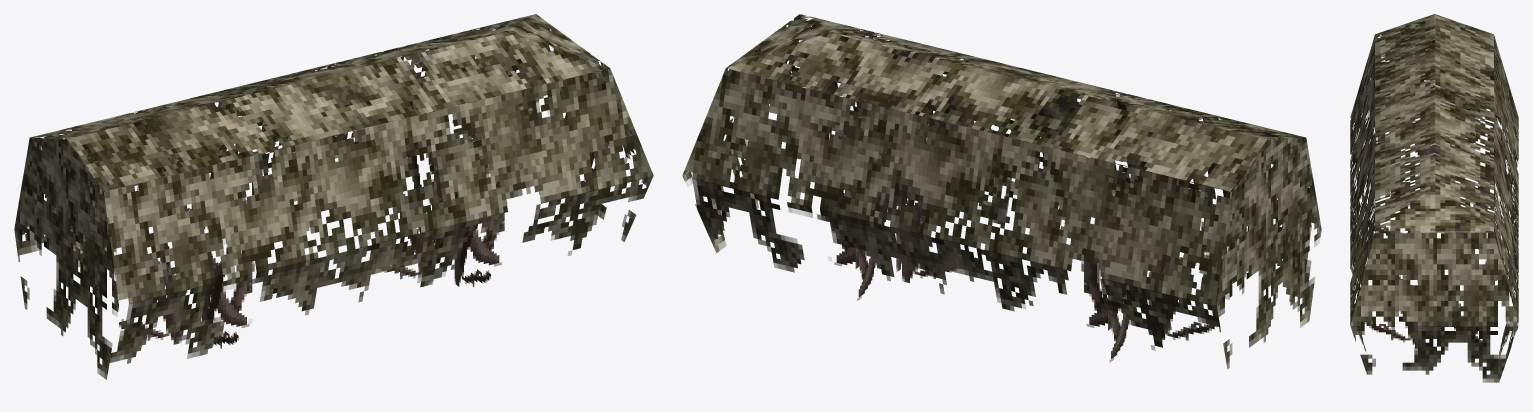
File: bush_long_open_right_roots_dead.glb
The picture shows the model from 3 angles, left to right: view 1: azimuth 30°, elevation 25°; view 2: azimuth 150°, elevation 25°; view 3: azimuth 270°, elevation 25°; orthographic projection. The views are drawn at different scales.
Parts seen in each view (by area): view 1: bush_long_open_right_roots_dead; view 2: bush_long_open_right_roots_dead; view 3: bush_long_open_right_roots_dead.
Part boxes in pixels (x1=…): bush_long_open_right_roots_dead: x1=14, y1=14, x2=653, y2=379; bush_long_open_right_roots_dead: x1=682, y1=14, x2=1321, y2=369; bush_long_open_right_roots_dead: x1=1350, y1=14, x2=1518, y2=382.
Size of the model in its own units: 2.12 by 0.8765 by 0.7191.
2 materials, 2 textured.
